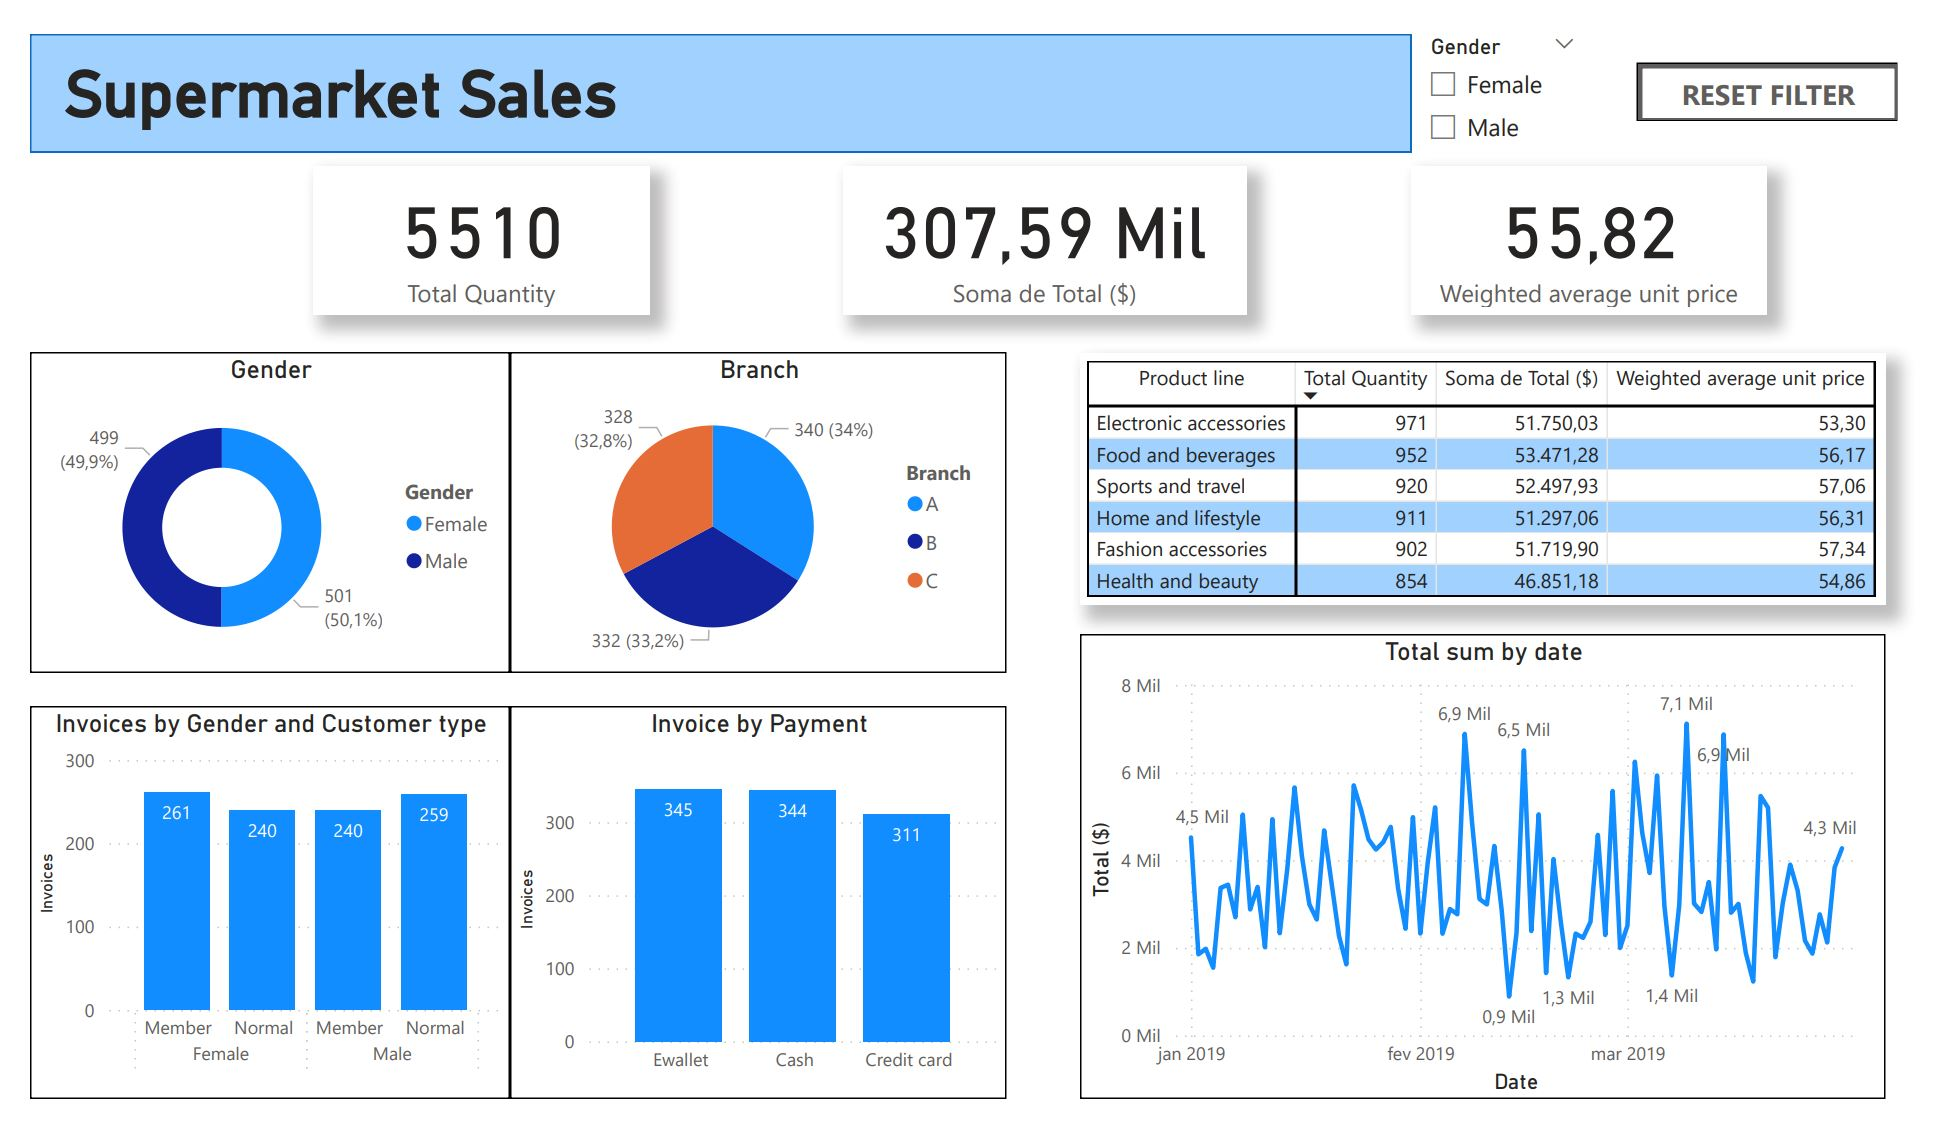

Layout of this report page (visuals, bound fields, positions):
{"tool":"powerbi","page":{"name":"Página 1","canvas":[1280,720],"ordinal":0},"visuals":[{"type":"donutChart","title":"Gender","fields":{"Category":["supermarket_sales - Sheet1.Gender"],"Y":["CountNonNull(supermarket_sales - Sheet1.Gender)"]},"box":[0,222.5,319.8,213.2],"z":0},{"type":"clusteredColumnChart","title":"Invoices by Gender and Customer type","fields":{"Category":["supermarket_sales - Sheet1.Gender","supermarket_sales - Sheet1.Customer type"],"Y":["CountNonNull(supermarket_sales - Sheet1.Invoice ID)"]},"box":[0,457.7,319.8,261.9],"z":1000},{"type":"card","fields":{"Values":["Sum(supermarket_sales - Sheet1.Total ($))"]},"box":[541.9,98.1,269.2,99.3],"z":2000},{"type":"card","fields":{"Values":["supermarket_sales - Sheet1.Total Quantity"]},"box":[189,98.1,223.7,99.3],"z":3000},{"type":"clusteredColumnChart","title":"Invoice by Payment","fields":{"Category":["supermarket_sales - Sheet1.Payment"],"Y":["CountNonNull(supermarket_sales - Sheet1.Invoice ID)"]},"box":[319.8,457.7,331.4,261.9],"z":4000},{"type":"pieChart","title":"Branch","fields":{"Y":["CountNonNull(supermarket_sales - Sheet1.Branch)"],"Category":["supermarket_sales - Sheet1.Branch"]},"box":[319.8,222.5,331.4,213.2],"z":5000},{"type":"slicer","fields":{"Values":["supermarket_sales - Sheet1.Gender"]},"box":[921.1,4.8,120.8,88.5],"z":6000},{"type":"pivotTable","fields":{"Rows":["supermarket_sales - Sheet1.Product line"],"Values":["supermarket_sales - Sheet1.Total Quantity","Sum(supermarket_sales - Sheet1.Total ($))","supermarket_sales - Sheet1.Média Ponderada Unidade Preço"]},"box":[699.8,222.5,537.1,168.7],"z":7000},{"type":"lineChart","title":"Total sum by date","fields":{"Y":["Sum(supermarket_sales - Sheet1.cogs)"],"Category":["supermarket_sales - Sheet1.Date"]},"box":[699.8,410.3,537.1,309.8],"z":8000},{"type":"card","fields":{"Values":["supermarket_sales - Sheet1.Weighted average unit price"]},"box":[921.1,98.1,236.9,99.3],"z":9000},{"type":"actionButton","title":"RESET FILTER","box":[1070.7,28.7,174.7,39.5],"z":10000},{"type":"shape","box":[0,9.6,921.1,79],"z":11000},{"type":"textbox","box":[17.9,20.3,403.1,58.6],"z":12000}]}

Visuals, with their boxes in screenshot pixels (x1, y1, x2, y2):
"Gender" donutChart: rect(25, 348, 504, 667)
"Invoices by Gender and Customer type" clusteredColumnChart: rect(25, 700, 504, 1092)
card - Sum(supermarket_sales - Sheet1.Total ($)): rect(837, 162, 1240, 311)
card - supermarket_sales - Sheet1.Total Quantity: rect(308, 162, 643, 311)
"Invoice by Payment" clusteredColumnChart: rect(504, 700, 1000, 1092)
"Branch" pieChart: rect(504, 348, 1000, 667)
slicer - supermarket_sales - Sheet1.Gender: rect(1404, 22, 1585, 155)
pivotTable - supermarket_sales - Sheet1.Product line x supermarket_sales - Sheet1.Total Quantity: rect(1073, 348, 1877, 601)
"Total sum by date" lineChart: rect(1073, 629, 1877, 1093)
card - supermarket_sales - Sheet1.Weighted average unit price: rect(1404, 162, 1759, 311)
"RESET FILTER" actionButton: rect(1628, 58, 1890, 117)
shape: rect(25, 30, 1404, 148)
textbox: rect(52, 46, 656, 133)
